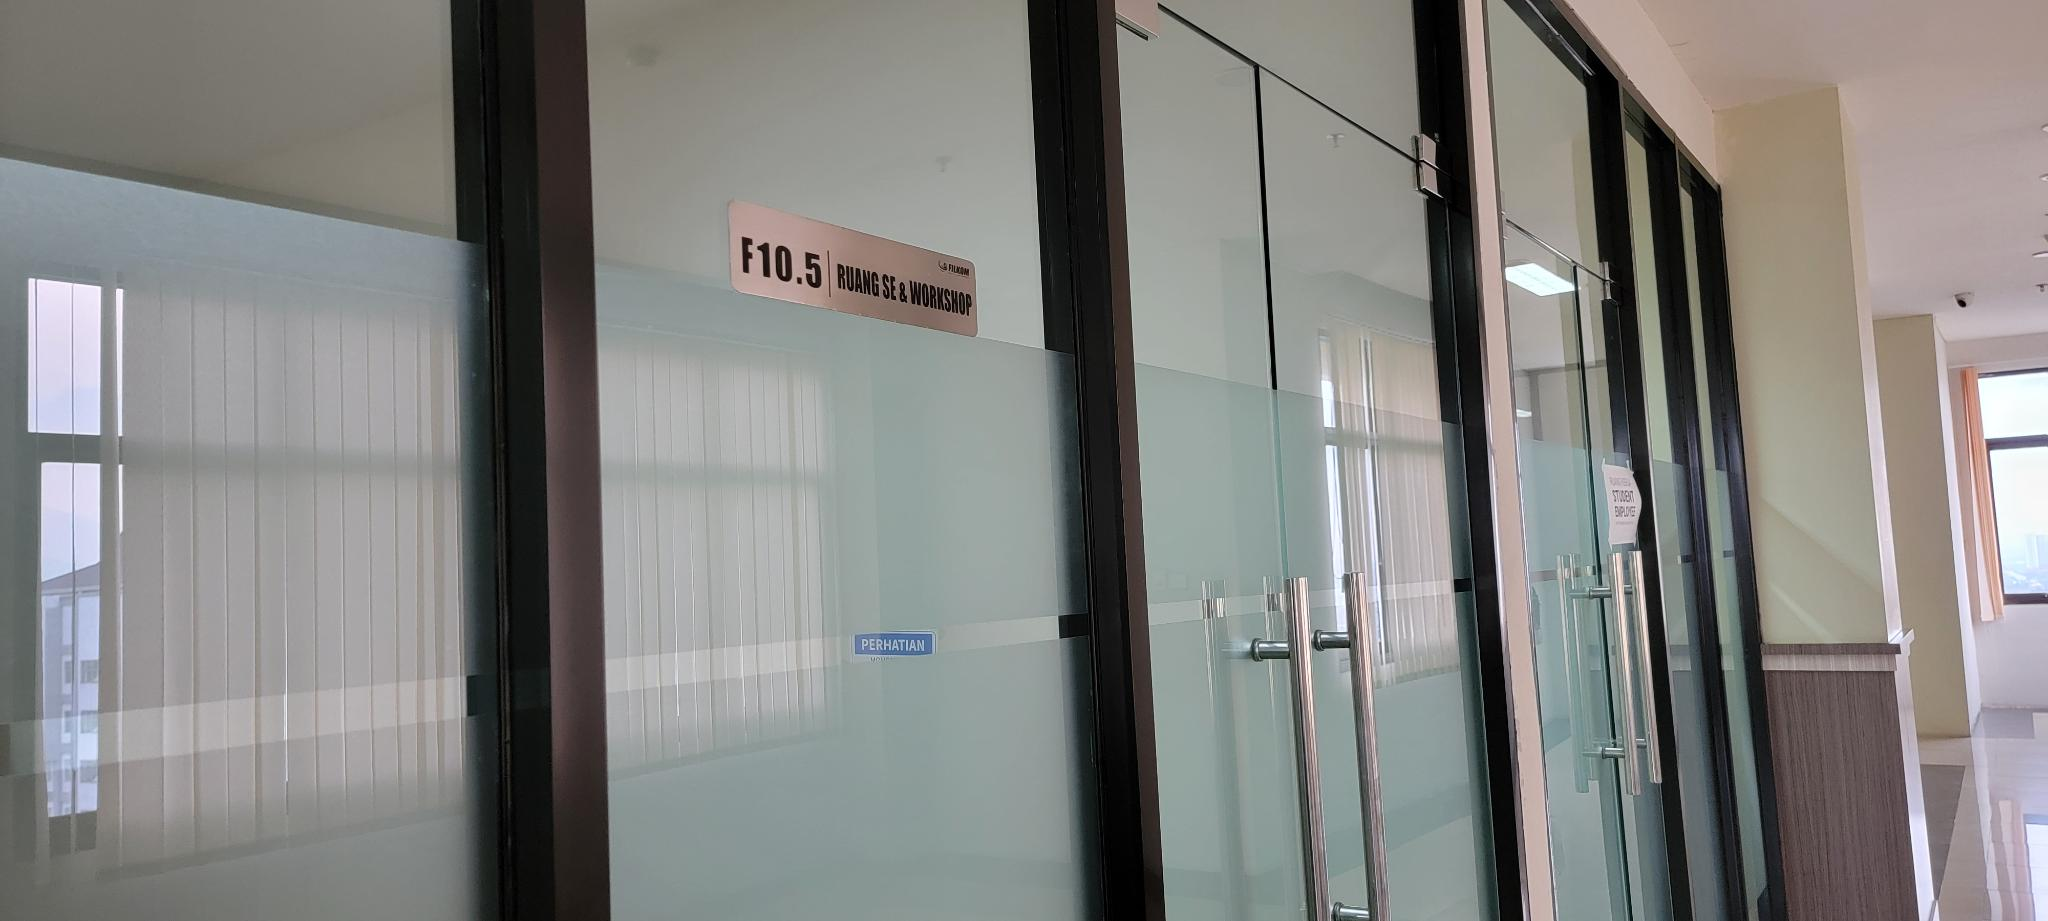plate: (730, 196, 980, 337)
